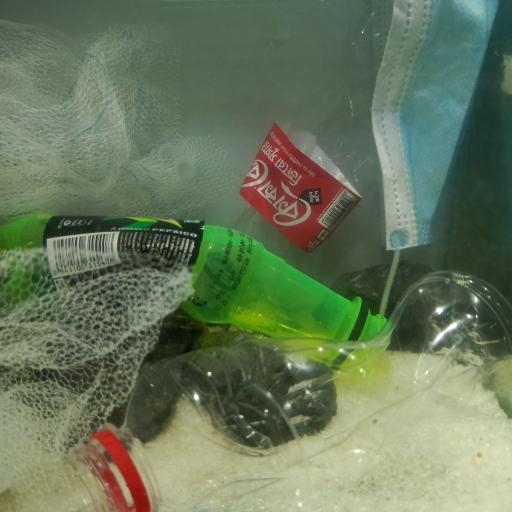mask: (370, 0, 511, 281)
net: (2, 9, 222, 512)
plastic_bottle: (61, 272, 512, 505), (2, 209, 390, 372), (231, 0, 383, 254)
